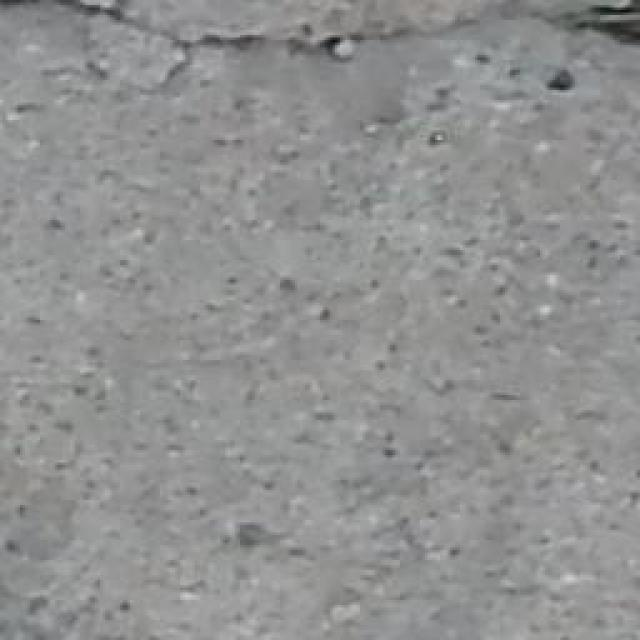concrete-crack: (54, 0, 503, 64), (559, 0, 640, 58)
